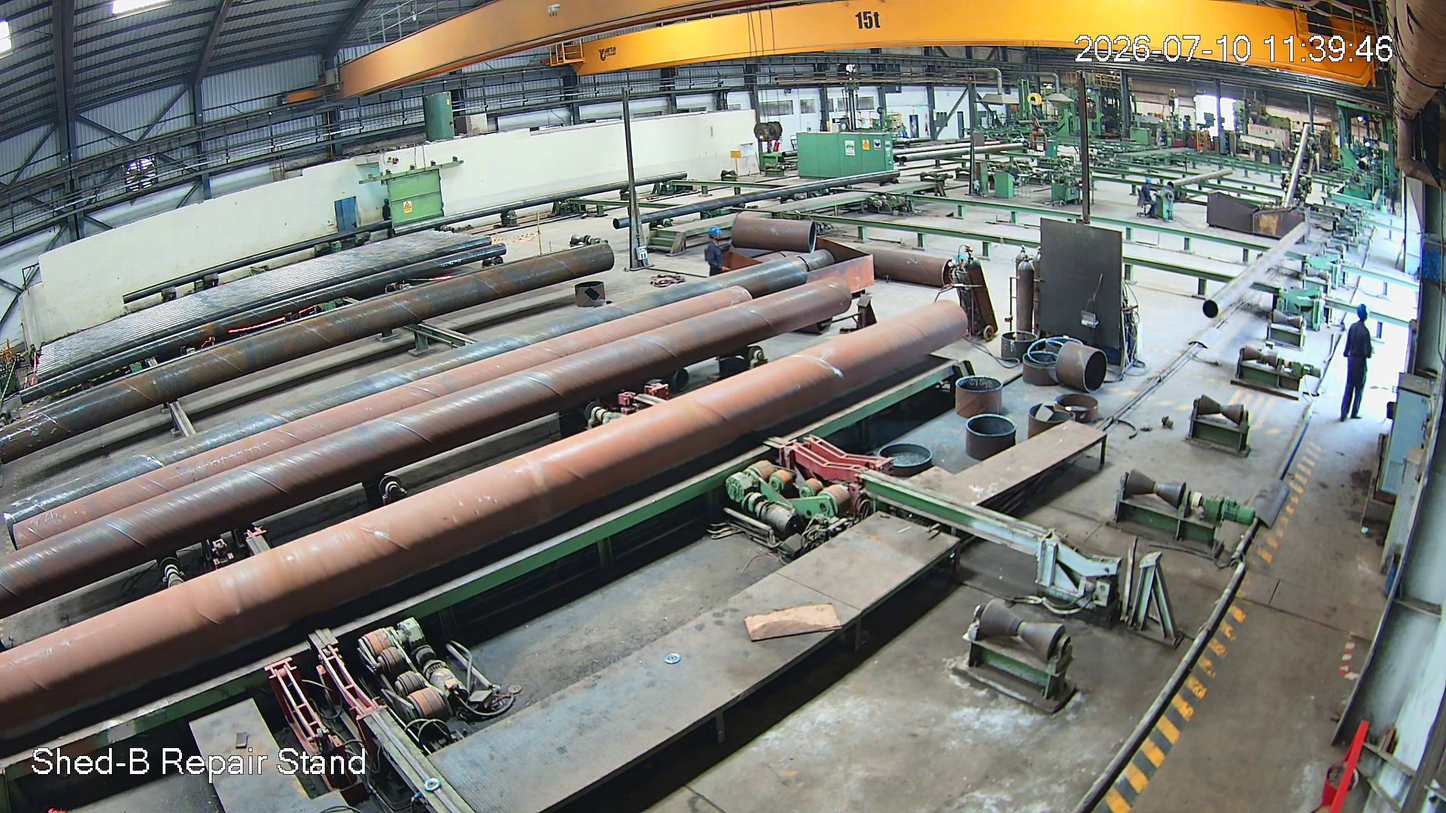Helmet: (1347, 294, 1374, 330), (706, 220, 725, 254), (1139, 174, 1156, 190)
Person: (1339, 299, 1379, 431), (700, 223, 733, 279), (1136, 177, 1161, 222)
